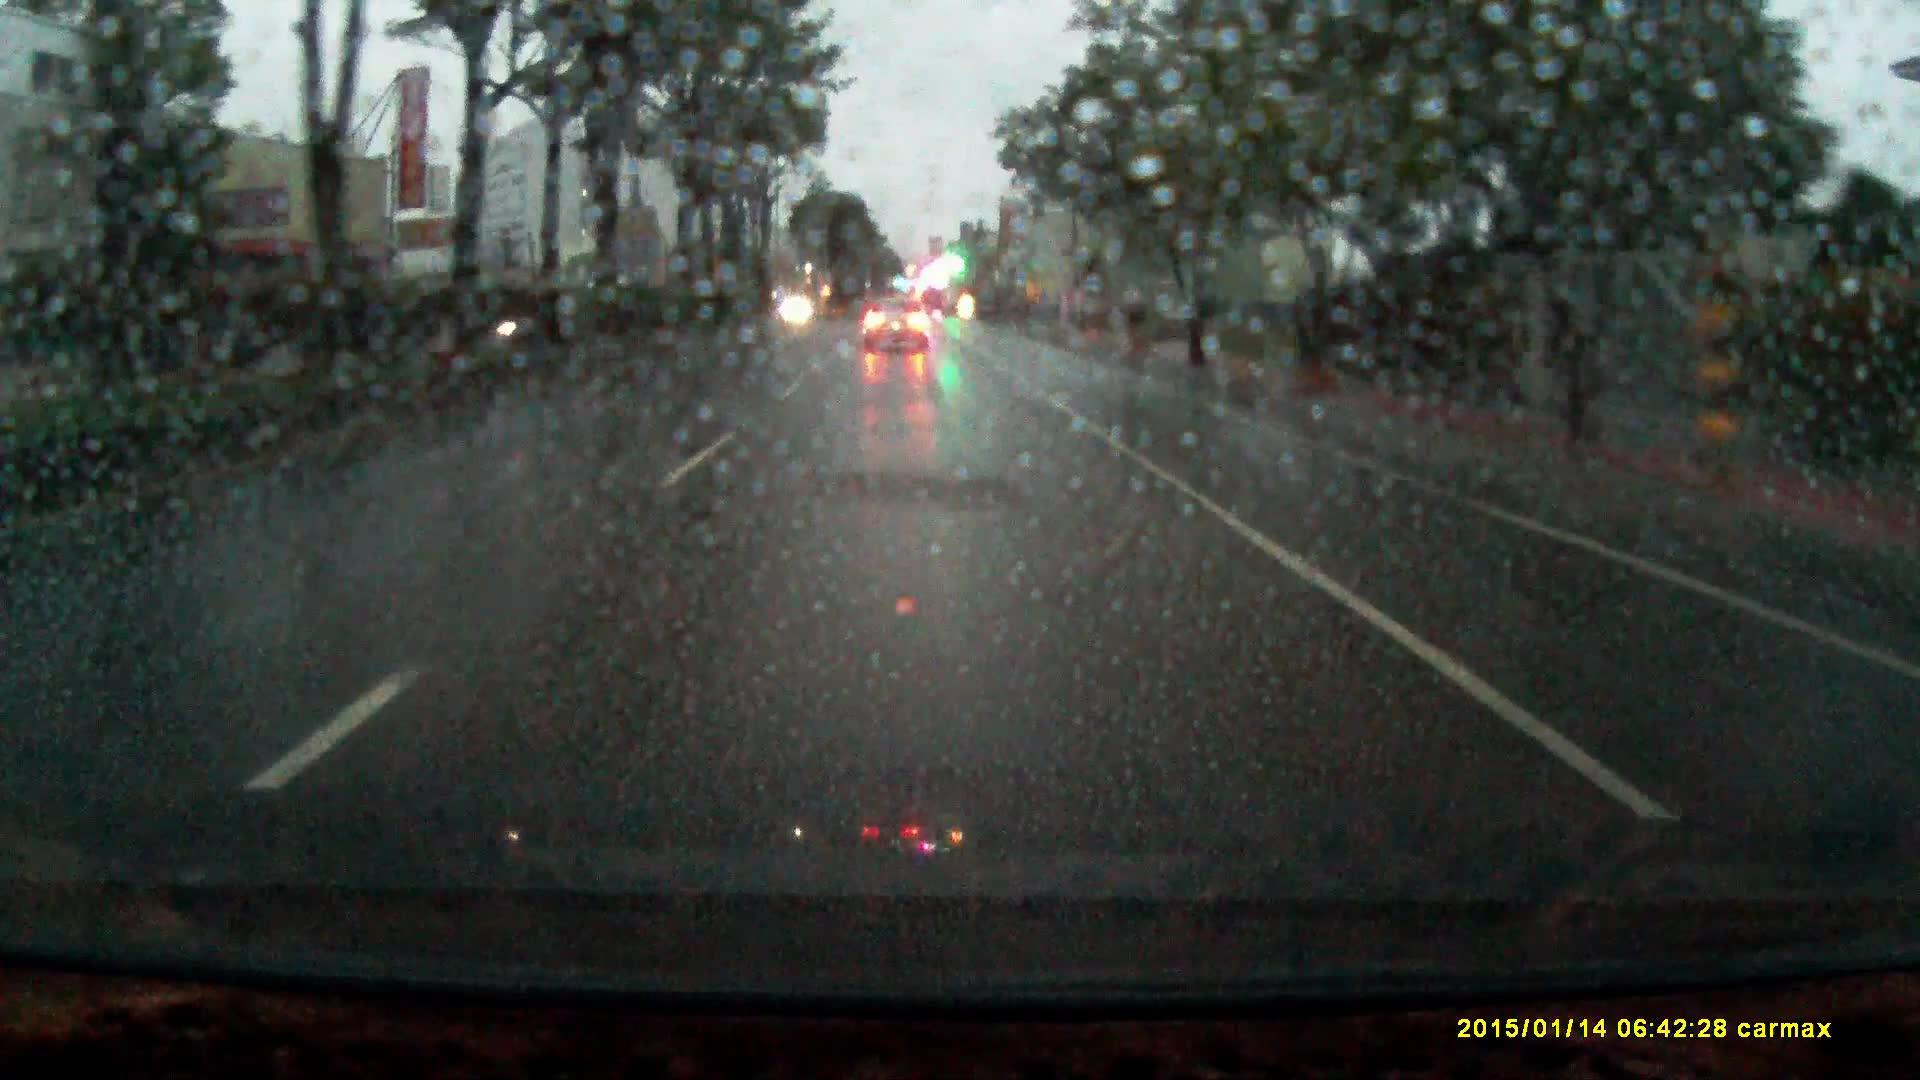vehicle: (862, 297, 932, 357)
